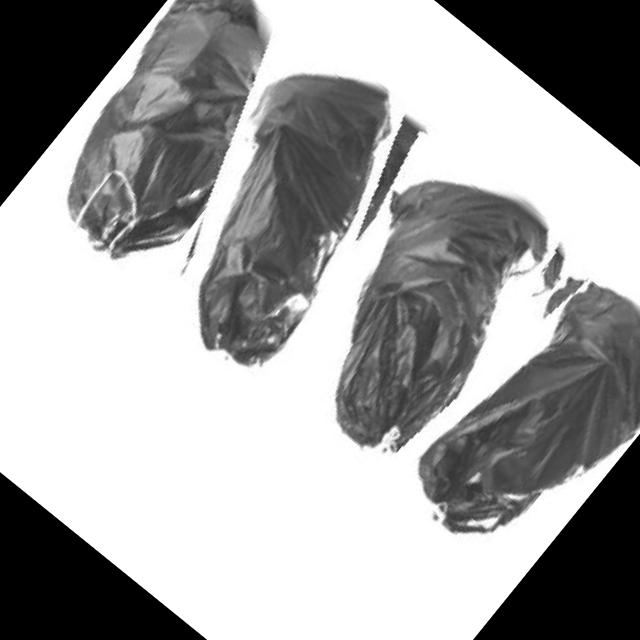KantongPlastik: (112, 31, 449, 388), (262, 152, 580, 500), (18, 0, 329, 290), (391, 260, 640, 587)
